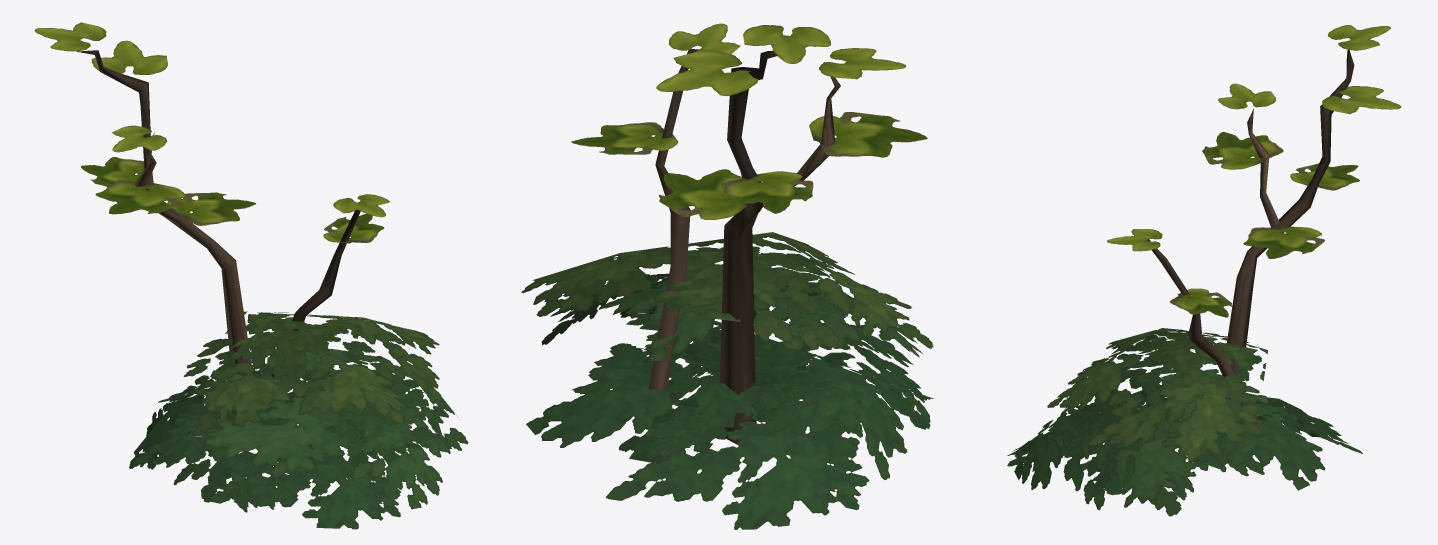
File: shrine_plant002_02.FBX
3 renders of one model, left to right at view 1: azimuth 30°, elevation 25°; view 2: azimuth 150°, elevation 25°; view 3: azimuth 270°, elevation 25°, orthographic. The views are drawn at different scales.
Parts seen in each view (by area): view 1: shrine_plant002_02; view 2: shrine_plant002_02; view 3: shrine_plant002_02.
Boxes of the visible parts, x1,y1,x2,y2 form: shrine_plant002_02: (34, 22, 468, 529); shrine_plant002_02: (521, 23, 933, 529); shrine_plant002_02: (1007, 25, 1401, 516).
Size of the model in its own units: 192 by 205 by 213.
